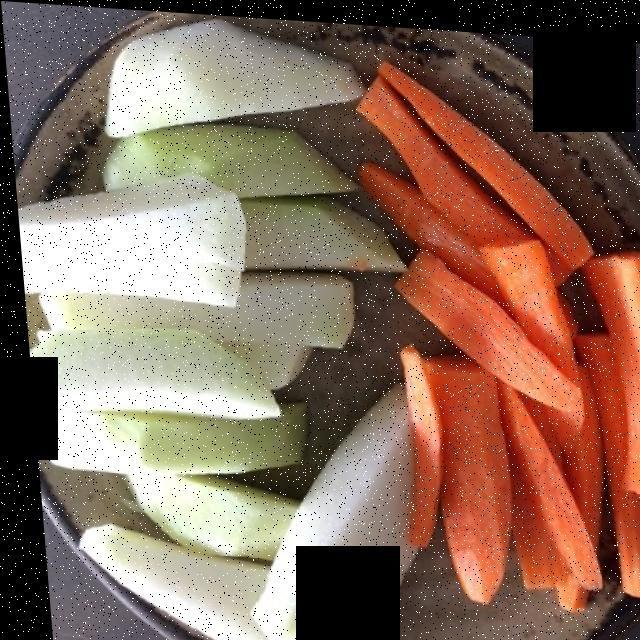carrot: (349, 50, 640, 608)
kolhrabi: (20, 16, 410, 640)
